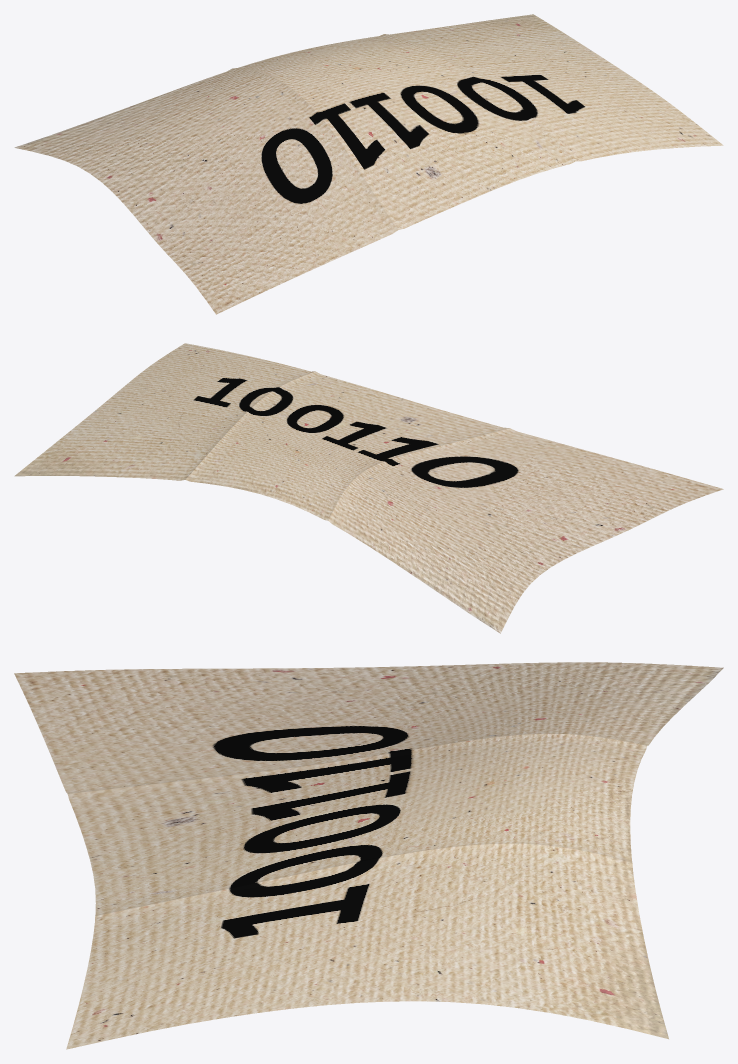
Rendered from pageThree.glb.
3 renders of one model, top to bottom at view 1: azimuth 30°, elevation 25°; view 2: azimuth 150°, elevation 25°; view 3: azimuth 270°, elevation 25°, orthographic. The views are drawn at different scales.
Visible parts, largest first — view 1: Object_2; view 2: Object_2; view 3: Object_2.
Boxes of the visible parts, x1,y1,x2,y2 form: Object_2: [14, 14, 723, 314]; Object_2: [14, 343, 723, 633]; Object_2: [14, 662, 723, 1049].
Size of the model in its own units: 24.75 by 3.3 by 17.43.
1 material, 1 textured.
